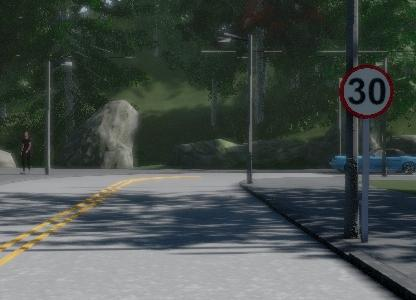Speed_30: (339, 61, 395, 121)
